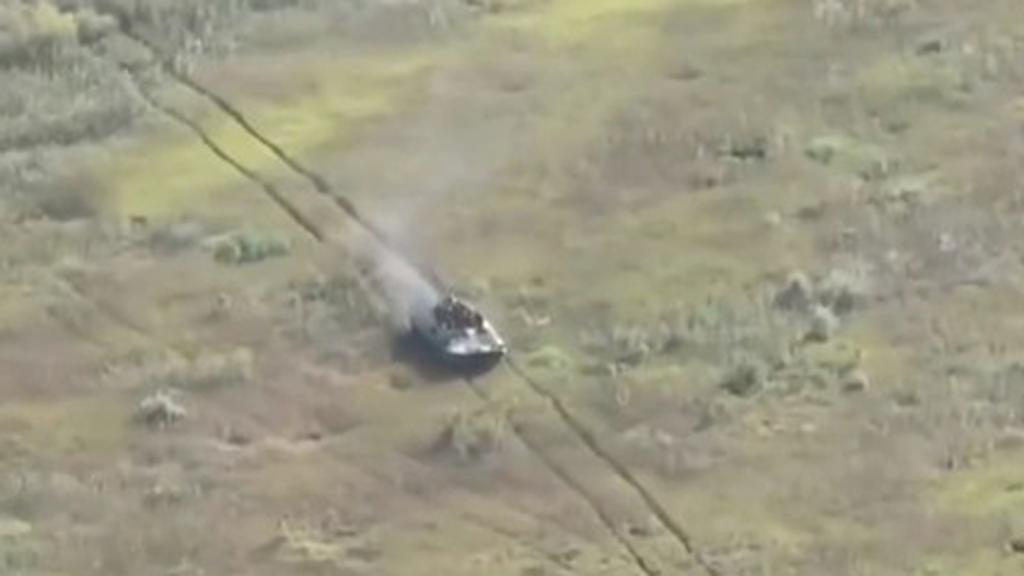APC-IFV: (388, 278, 506, 370)
